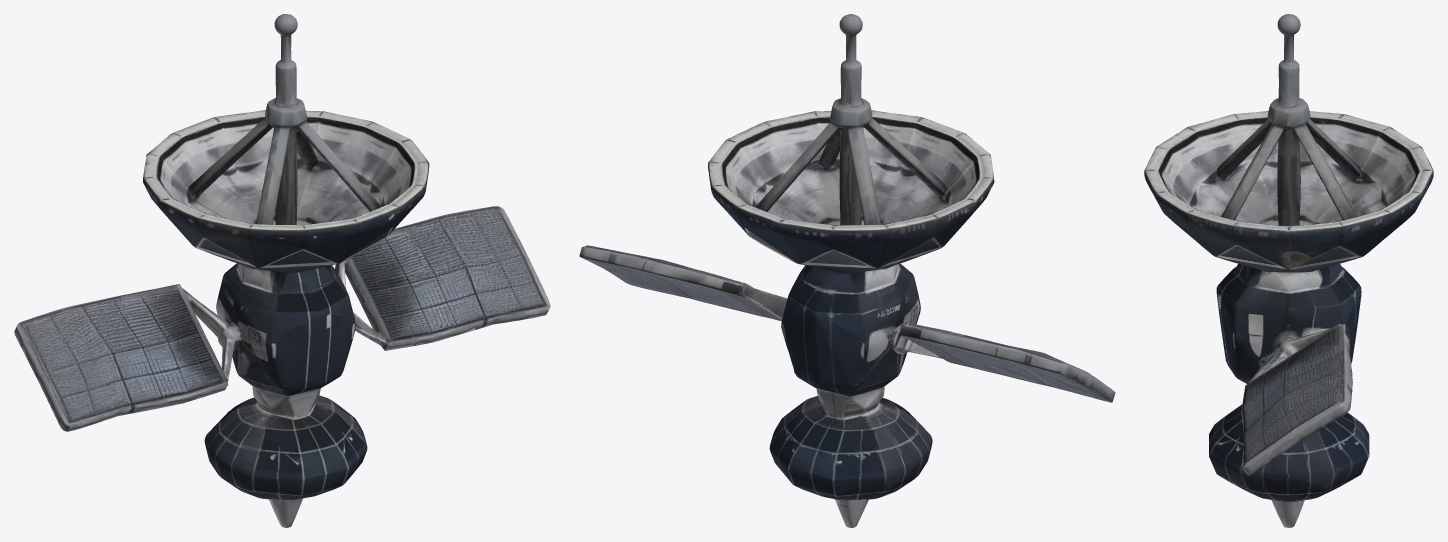
Rendered from model.opt.glb.
The picture shows the model from 3 angles, left to right: view 1: azimuth 30°, elevation 25°; view 2: azimuth 150°, elevation 25°; view 3: azimuth 270°, elevation 25°; orthographic projection.
Size of the model in its own units: 2 by 2 by 1.03.
1 material, 1 textured.
